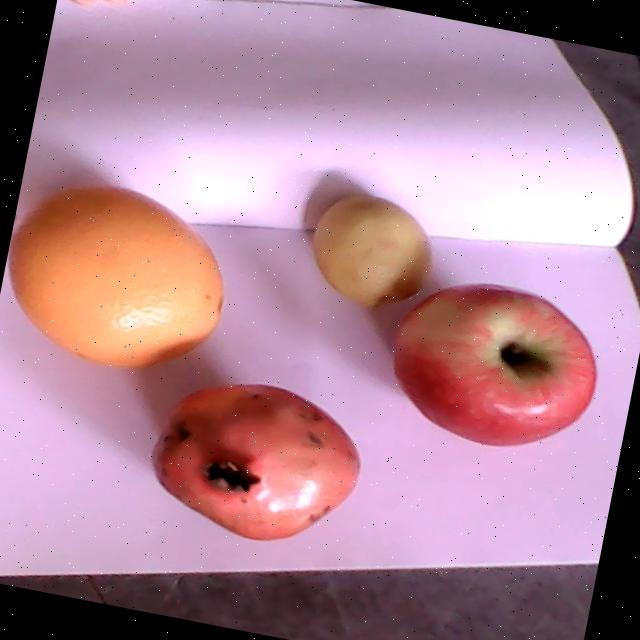apple: (393, 281, 594, 446)
lemon: (314, 193, 428, 311)
orange: (6, 185, 223, 369)
pomegranate: (147, 382, 358, 545)
